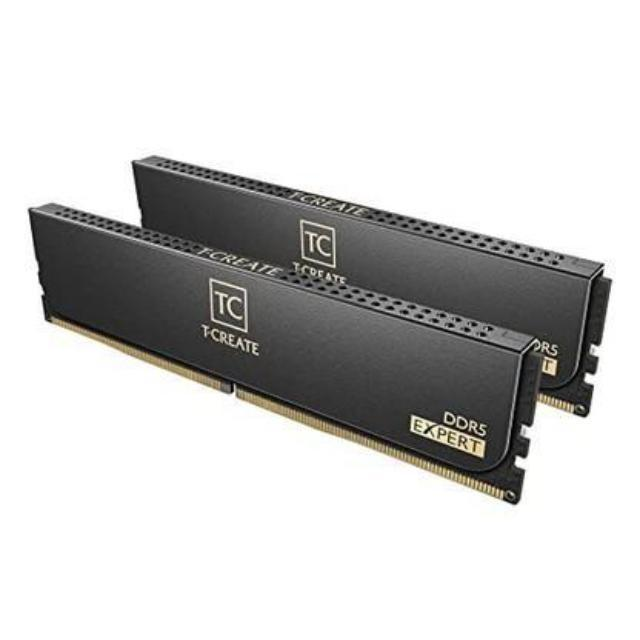RAM: (19, 146, 606, 520)
